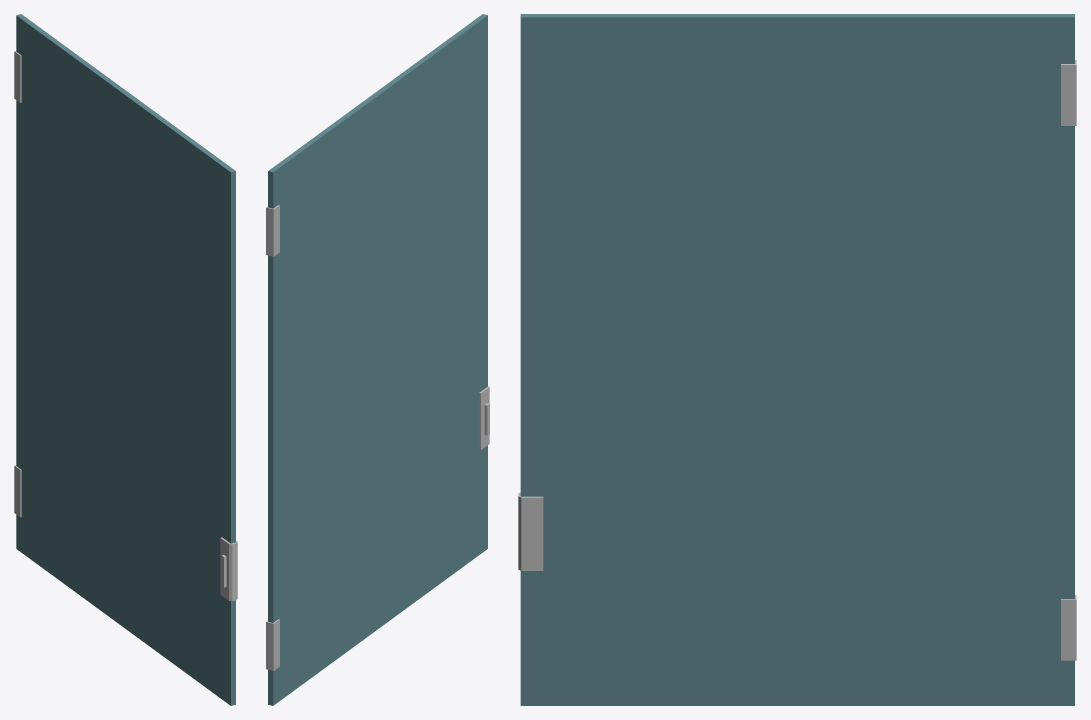
File: SM_Shelf_Door_B_01.fbx
3 views of the same model, side by side, from view 1: azimuth 30°, elevation 25°; view 2: azimuth 150°, elevation 25°; view 3: azimuth 270°, elevation 25° (orthographic). The views are drawn at different scales.
Visible parts, largest first — view 1: SM_Shelf_Door_B_01; view 2: SM_Shelf_Door_B_01; view 3: SM_Shelf_Door_B_01.
Part boxes in pixels (x1,y1,x2,y2): SM_Shelf_Door_B_01: (14,14,237,705); SM_Shelf_Door_B_01: (266,14,489,705); SM_Shelf_Door_B_01: (518,14,1076,705).
Bounding box in the file's own units: 3.13 × 140 × 103.
